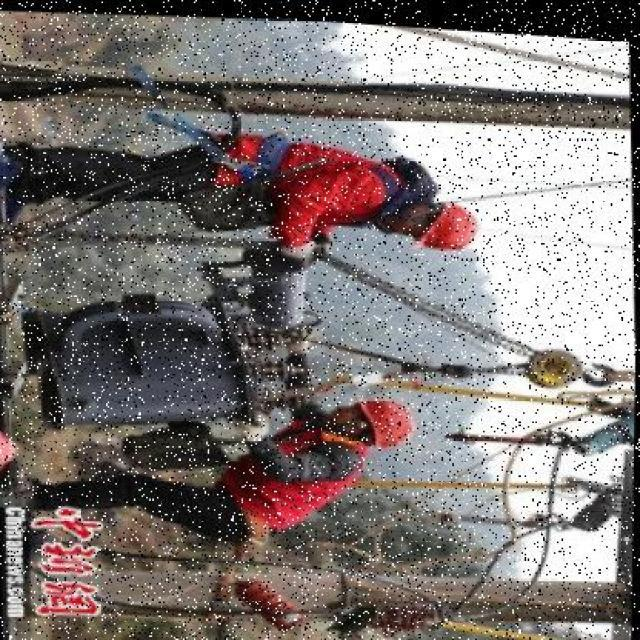helmet: (413, 191, 483, 253), (359, 391, 419, 451)
